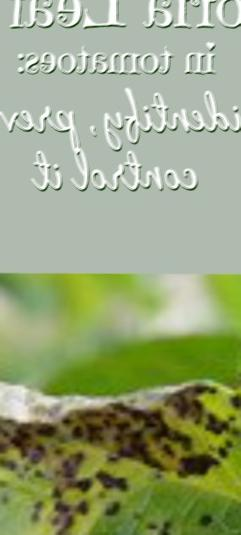Tomato Septoria leaf spot: (0, 335, 241, 535)
